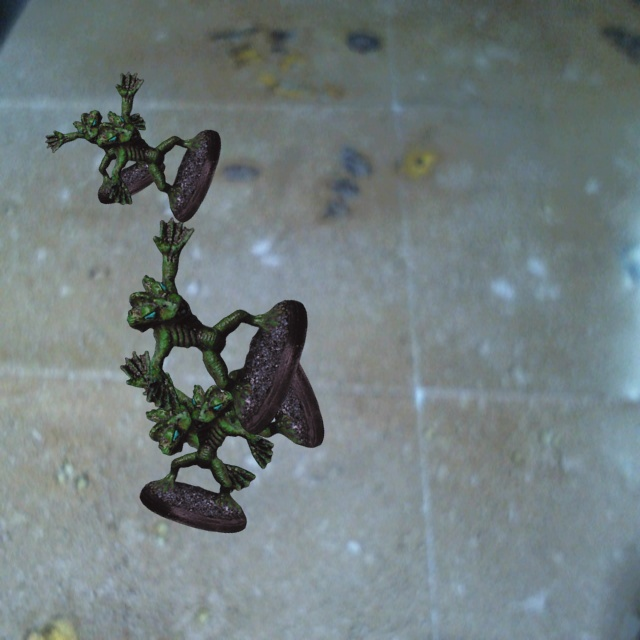pieza_juego: (127, 217, 307, 434), (120, 328, 323, 492), (139, 369, 273, 532), (96, 72, 220, 222), (45, 110, 165, 203)
